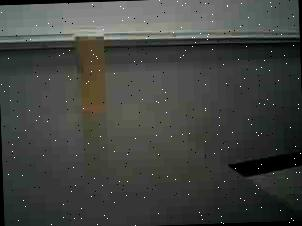Bottle A: (64, 20, 117, 128)
